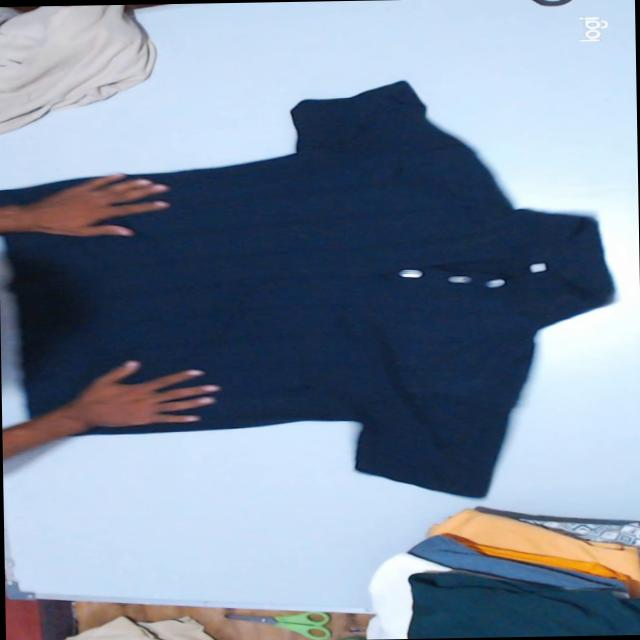new-garment: (4, 81, 612, 496)
